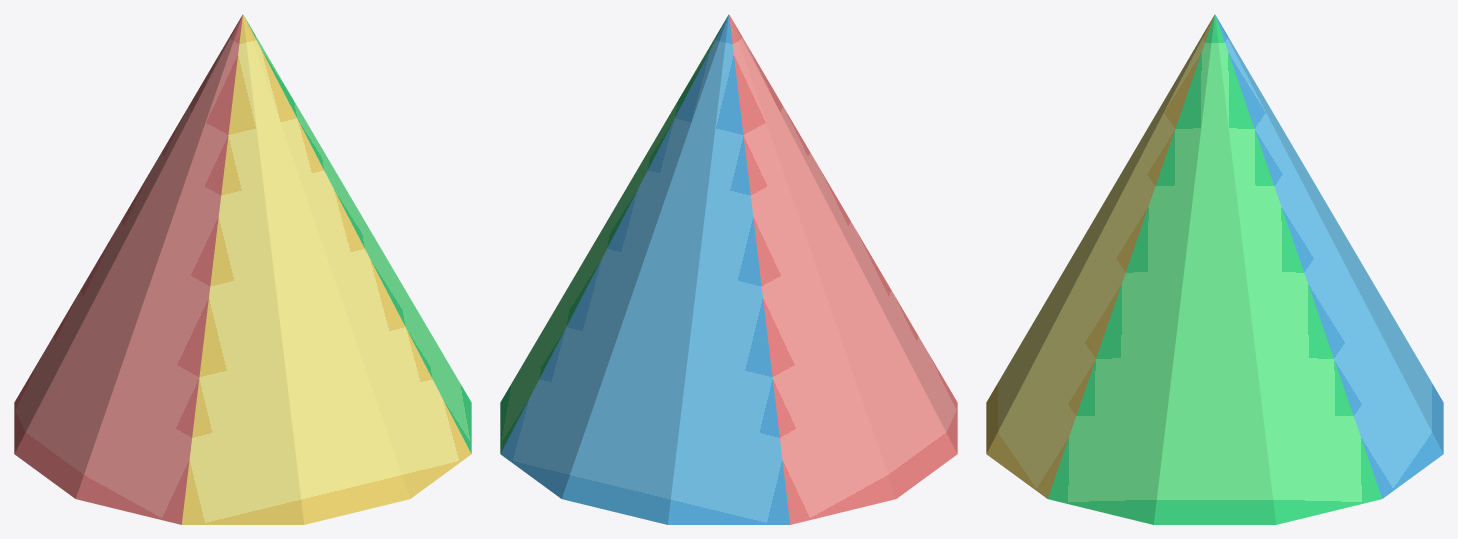
3 renders of one model, left to right at view 1: azimuth 30°, elevation 25°; view 2: azimuth 150°, elevation 25°; view 3: azimuth 270°, elevation 25°, orthographic.
Visible parts, largest first — view 1: cone; view 2: cone; view 3: cone.
Part boxes in pixels (x1,y1,x2,y2): cone: [14, 14, 471, 524]; cone: [500, 14, 957, 524]; cone: [986, 14, 1443, 524].
Bounding box in the file's own units: 1 × 1 × 1.
Materials: 1 (1 with a texture image).
